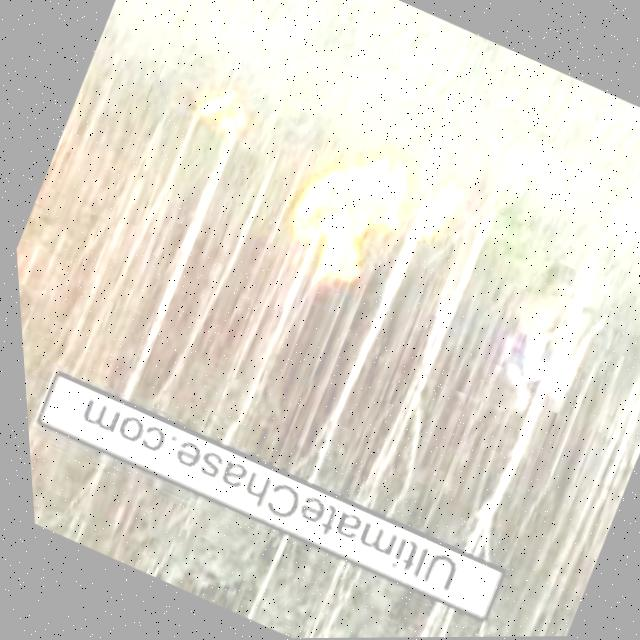Fire: (269, 136, 420, 293), (186, 76, 258, 146), (408, 174, 466, 254)
